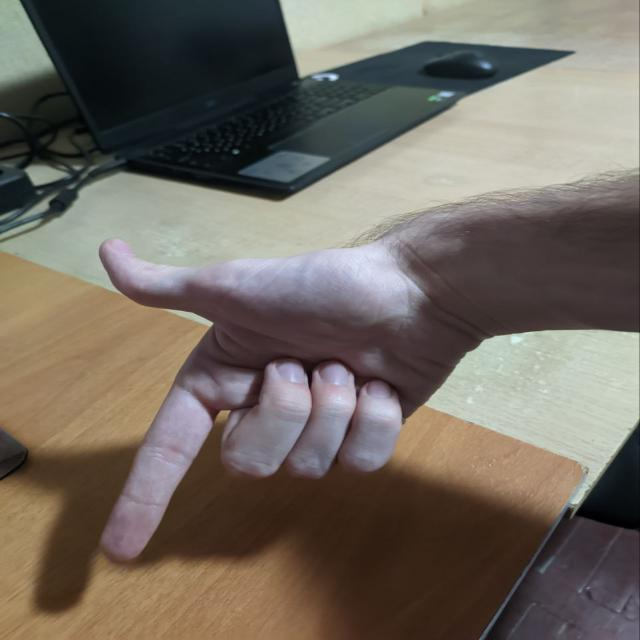g: (82, 213, 424, 555)
